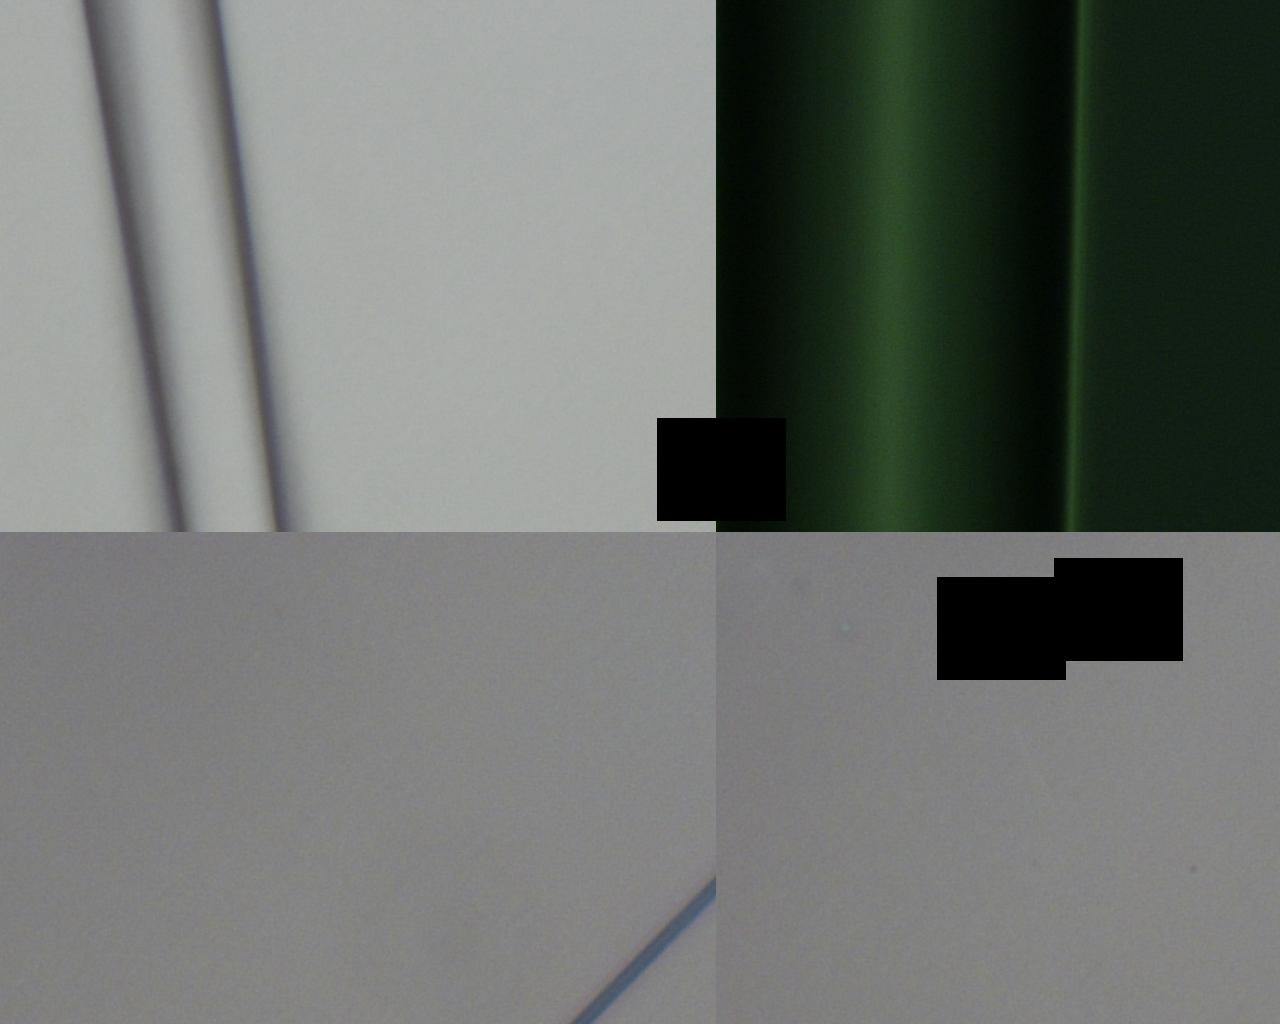fiber: (211, 563, 759, 1024), (870, 0, 948, 563)
